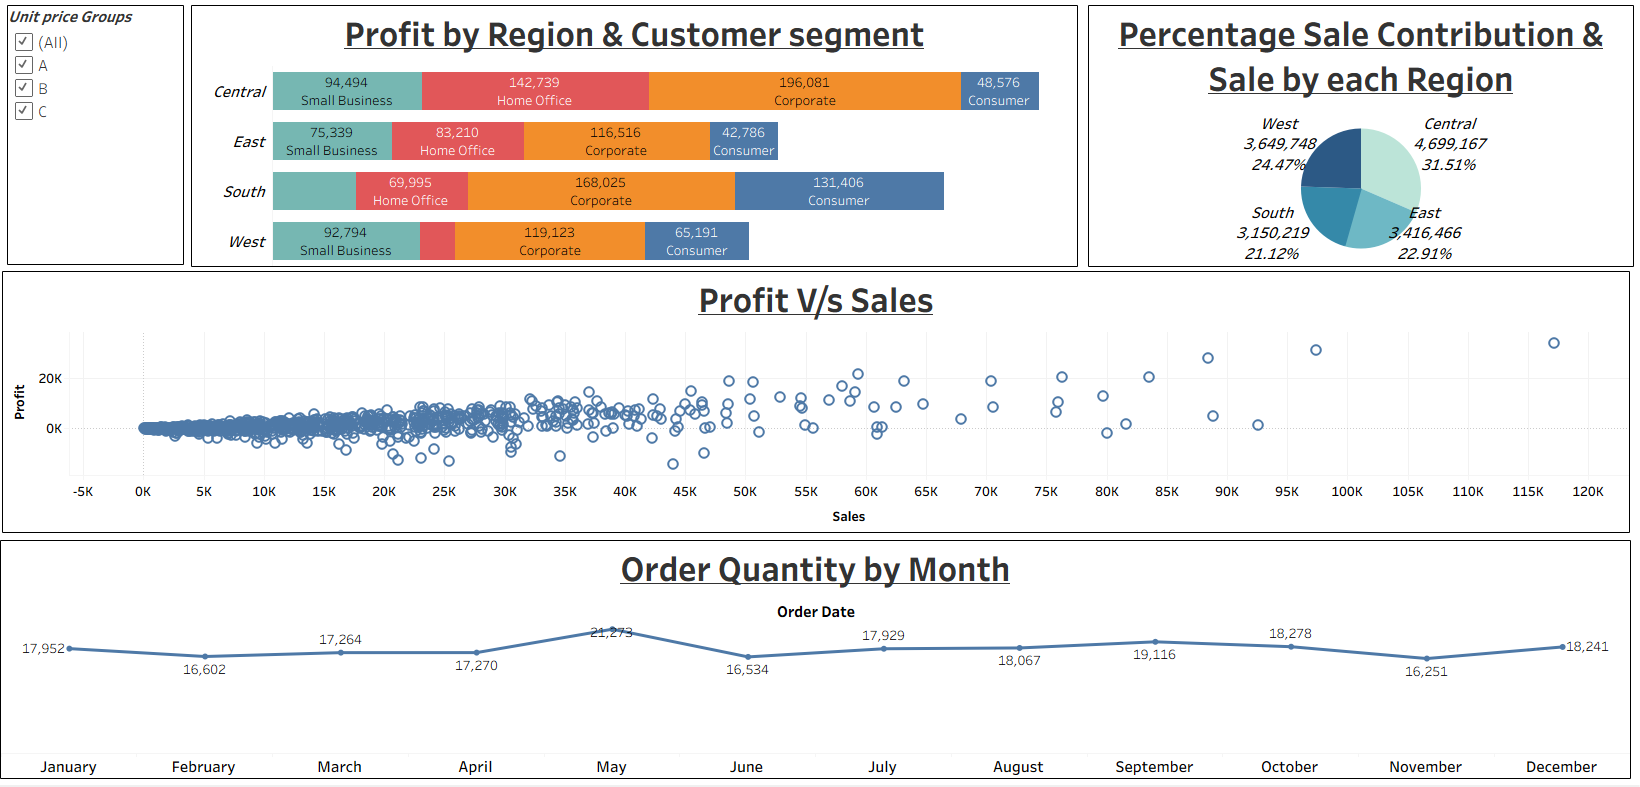

The dashboard page shown, as its layout file describes it:
{"tool":"tableau","page":{"name":"Dashboard 1","canvas":[1000,1000],"units":"permille","ordinal":0},"visuals":[{"type":"filter","title":"Line Chart","param":"[federated.0k3vbn21q6yt5o10gnyqw1afyrif].[none:Calculation_1655630786228225:nk]","box":[5.6,6.2,107.6,330.8]},{"type":"worksheet","title":"Bar Chart","mark":"Automatic","rows":["Region"],"cols":["Profit"],"box":[117.8,6.2,540.7,333.3]},{"type":"worksheet","title":"Pie Chart","mark":"Pie","box":[664,6.2,332.9,333.3]},{"type":"worksheet","title":"Scatter plot","mark":"Automatic","rows":["Profit"],"cols":["Sales"],"box":[2.5,345.8,992,333.3]},{"type":"legend","title":"Scatter plot","param":"[federated.0k3vbn21q6yt5o10gnyqw1afyrif].[none:Calculation_1655630786228225:nk]","box":[482.7,354.6,86.3,106.1]},{"type":"legend","title":"Scatter plot","param":"[federated.0k3vbn21q6yt5o10gnyqw1afyrif].[none:Calculation_1655630786228225:nk]","box":[492,373.3,86.3,106.1]},{"type":"worksheet","title":"Line Chart","mark":"Line","rows":["Order Quantity"],"cols":["Order Date"],"box":[1.2,687.9,993.8,304.6]}]}

Visuals, with their boxes on the dashboard's canvas, which has no fixed pixel size, in thousandths of its width and height (x1, y1, x2, y2). These are canvas units, not pixel positions in the 1640x787 screenshot, which may show the page scaled, cropped or inside an application window:
"Line Chart" filter: l=6, t=6, r=113, b=337
"Bar Chart" worksheet: l=118, t=6, r=658, b=340
"Pie Chart" worksheet (Pie marks): l=664, t=6, r=997, b=340
"Scatter plot" worksheet: l=2, t=346, r=994, b=679
"Scatter plot" legend: l=483, t=355, r=569, b=461
"Scatter plot" legend: l=492, t=373, r=578, b=479
"Line Chart" worksheet (Line marks): l=1, t=688, r=995, b=992
